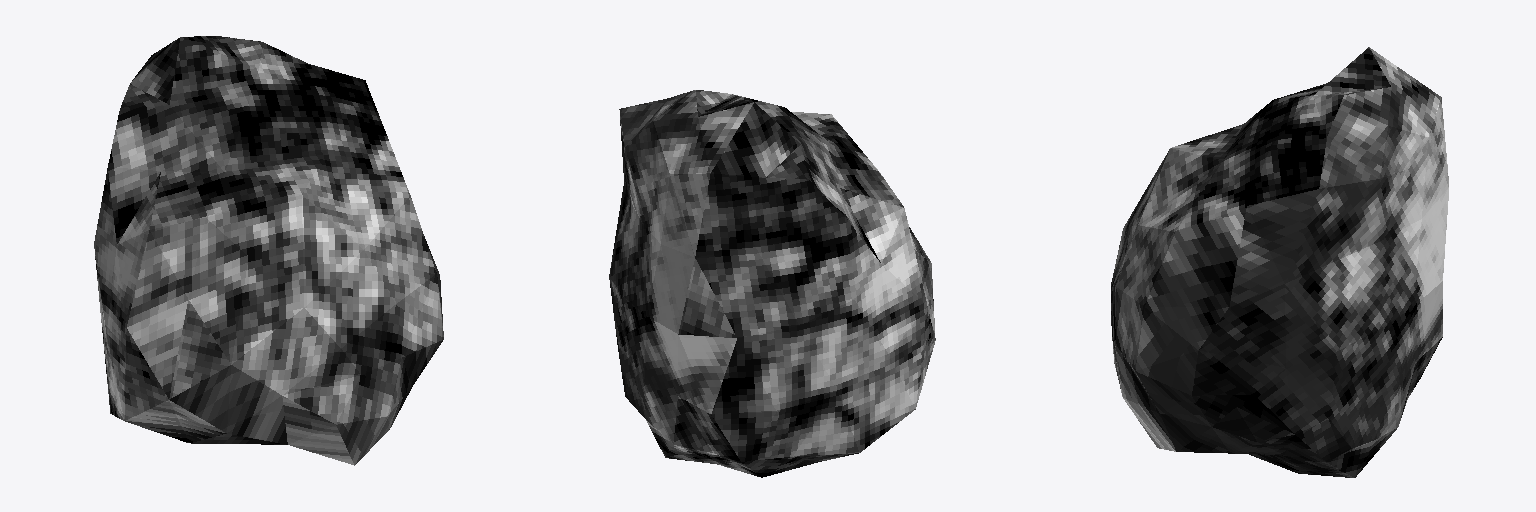
3 renders of one model, left to right at view 1: azimuth 30°, elevation 25°; view 2: azimuth 150°, elevation 25°; view 3: azimuth 270°, elevation 25°, orthographic.
Parts seen in each view (by area): view 1: rock.002; view 2: rock.002; view 3: rock.002.
Boxes of the visible parts, box(x1,y1,x2,y2) form: rock.002: box(94, 36, 443, 465); rock.002: box(609, 90, 935, 477); rock.002: box(1111, 47, 1448, 477).
Size of the model in its own units: 2.13 by 2.74 by 2.17.
Materials: 1 (1 with a texture image).